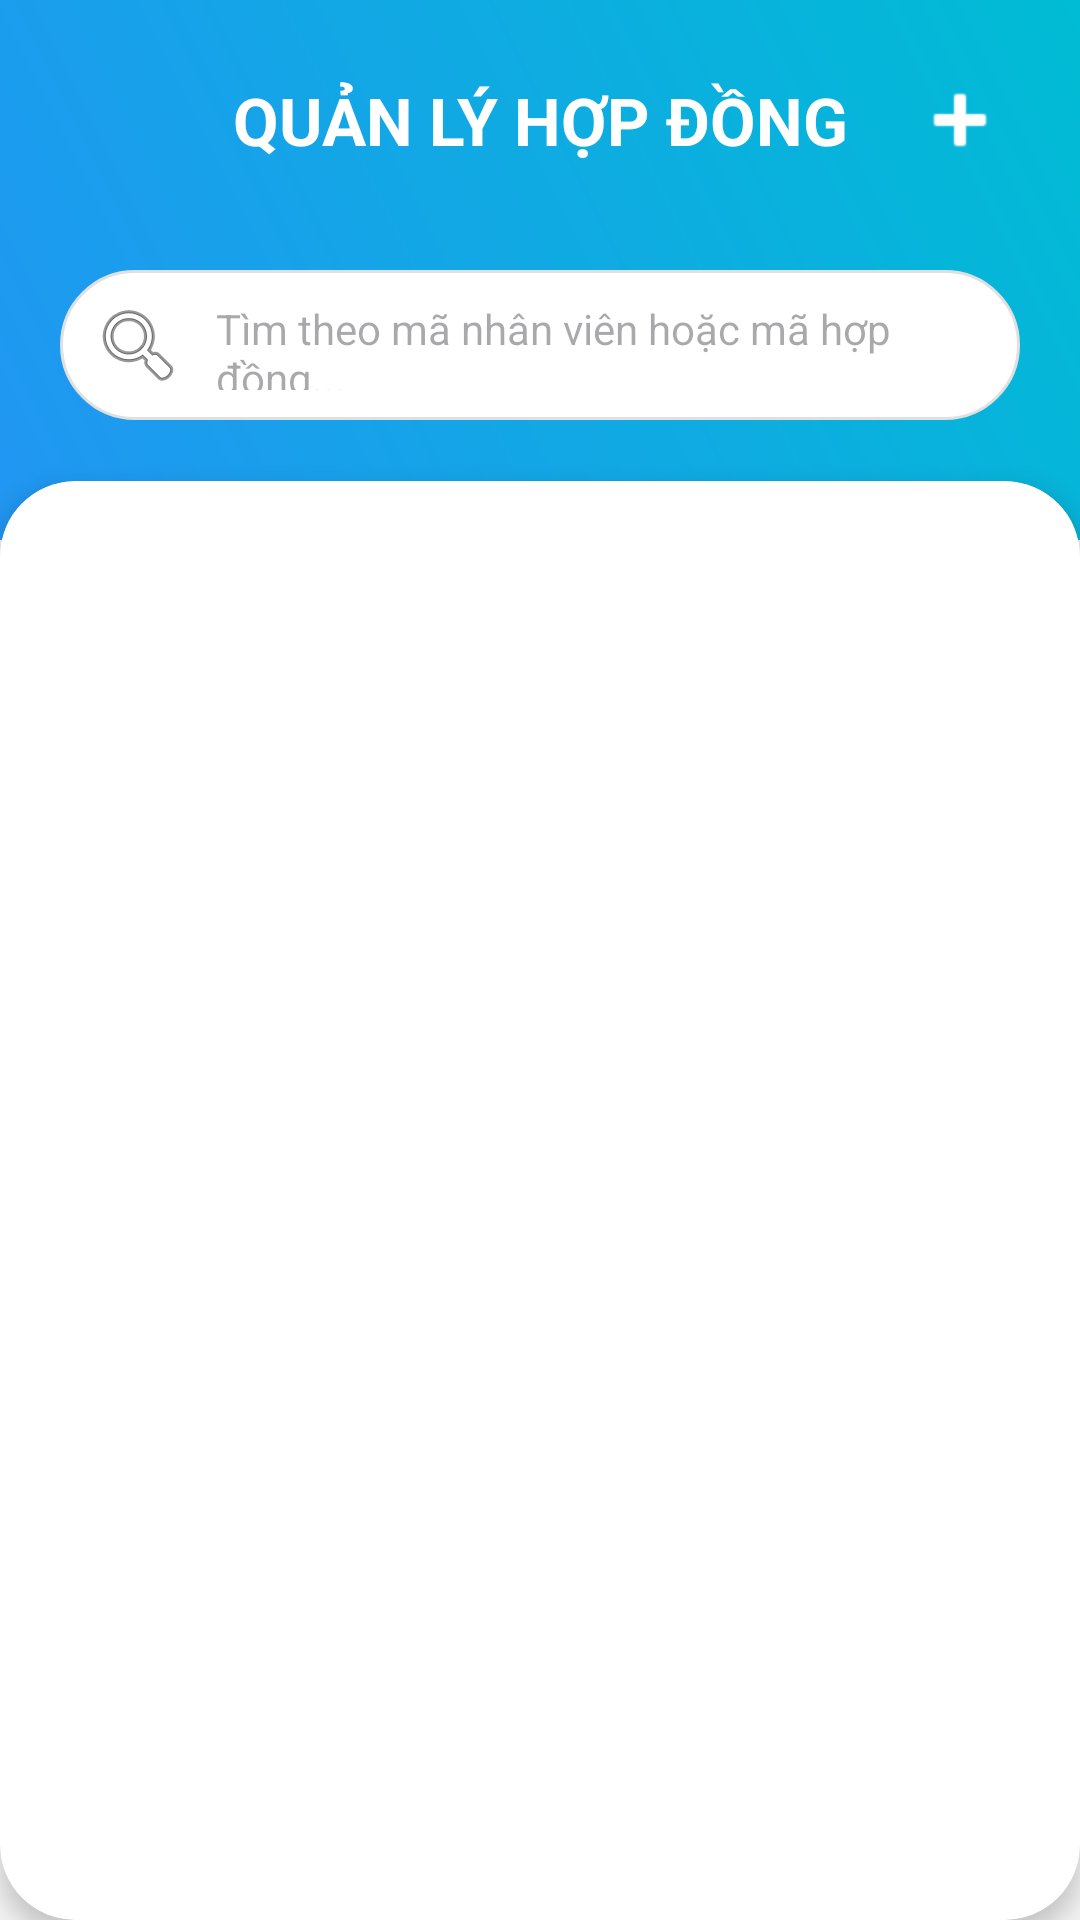

Where icons sit on this 1080x1920 app screen, as (x1, y1, x2, y2):
add: (933, 93, 987, 147)
